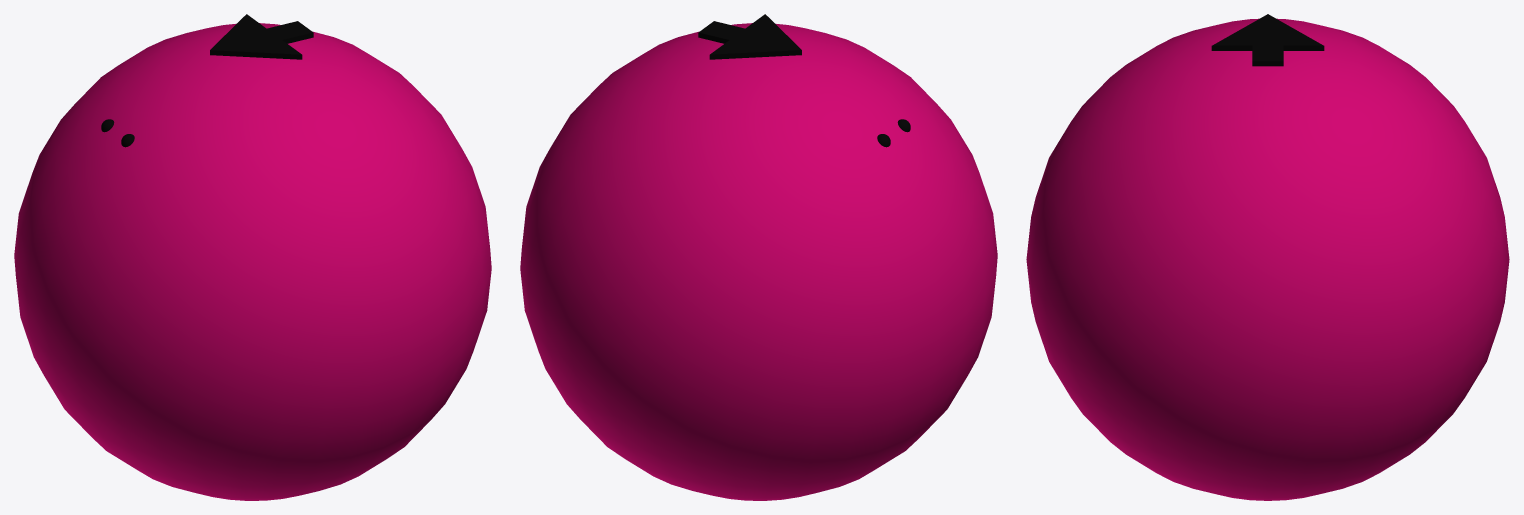
3 views of the same model, side by side, from view 1: azimuth 30°, elevation 25°; view 2: azimuth 150°, elevation 25°; view 3: azimuth 270°, elevation 25° (orthographic).
Visible parts, largest first — view 1: Cube.021_Cube.009_Material.004, Cube.021_Cube.009_SVGMat; view 2: Cube.021_Cube.009_Material.004, Cube.021_Cube.009_SVGMat; view 3: Cube.021_Cube.009_Material.004, Cube.021_Cube.009_SVGMat.
Part boxes in pixels (x1=…): Cube.021_Cube.009_Material.004: x1=14, y1=23, x2=491, y2=500; Cube.021_Cube.009_SVGMat: x1=101, y1=14, x2=313, y2=147; Cube.021_Cube.009_Material.004: x1=520, y1=23, x2=997, y2=500; Cube.021_Cube.009_SVGMat: x1=698, y1=14, x2=910, y2=147; Cube.021_Cube.009_Material.004: x1=1026, y1=18, x2=1509, y2=500; Cube.021_Cube.009_SVGMat: x1=1211, y1=14, x2=1324, y2=66.
Bounding box in the file's own units: 0.4999 × 0.5016 × 0.4999.
